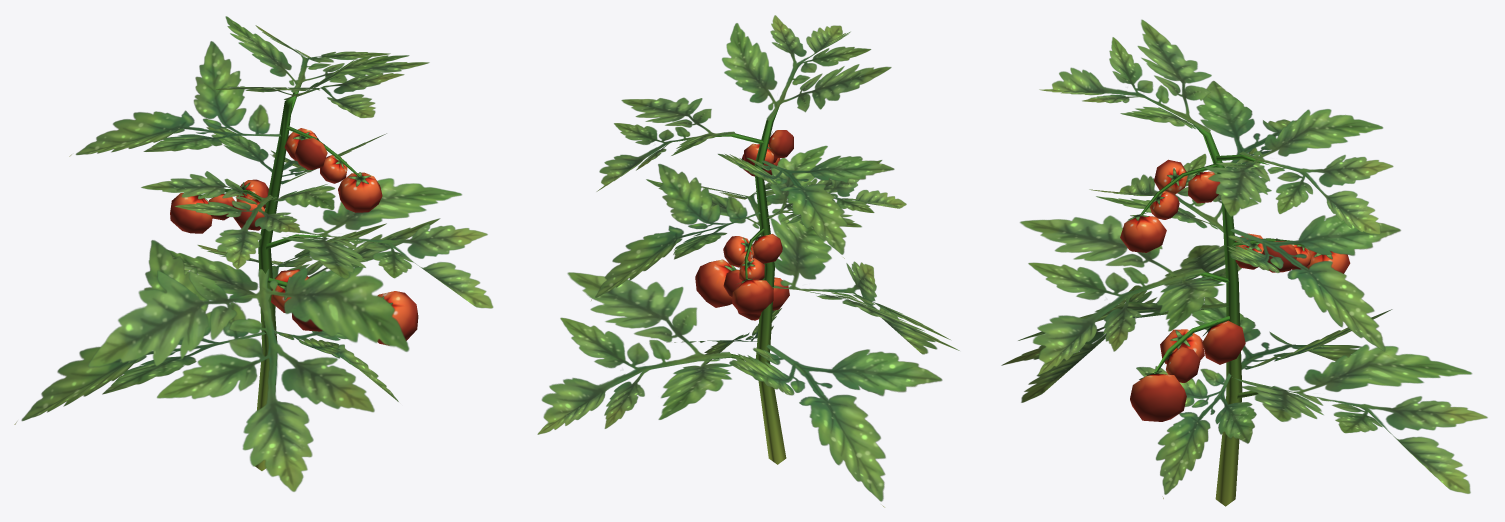
The model's file is plant_tomato_S3.gltf.
3 renders of one model, left to right at view 1: azimuth 30°, elevation 25°; view 2: azimuth 150°, elevation 25°; view 3: azimuth 270°, elevation 25°, orthographic. The views are drawn at different scales.
Visible parts, largest first — view 1: plant_tomato_S3, plant_tomato_S3_crop; view 2: plant_tomato_S3, plant_tomato_S3_crop; view 3: plant_tomato_S3, plant_tomato_S3_crop.
Part boxes in pixels (x1,y1,x2,y2): plant_tomato_S3: [14, 16, 493, 491]; plant_tomato_S3_crop: [170, 128, 418, 345]; plant_tomato_S3: [537, 15, 959, 507]; plant_tomato_S3_crop: [695, 130, 793, 320]; plant_tomato_S3: [1001, 19, 1487, 506]; plant_tomato_S3_crop: [1120, 159, 1350, 421].
Size of the model in its own units: 1.01 by 0.9981 by 1.01.
1 material, 1 textured.
